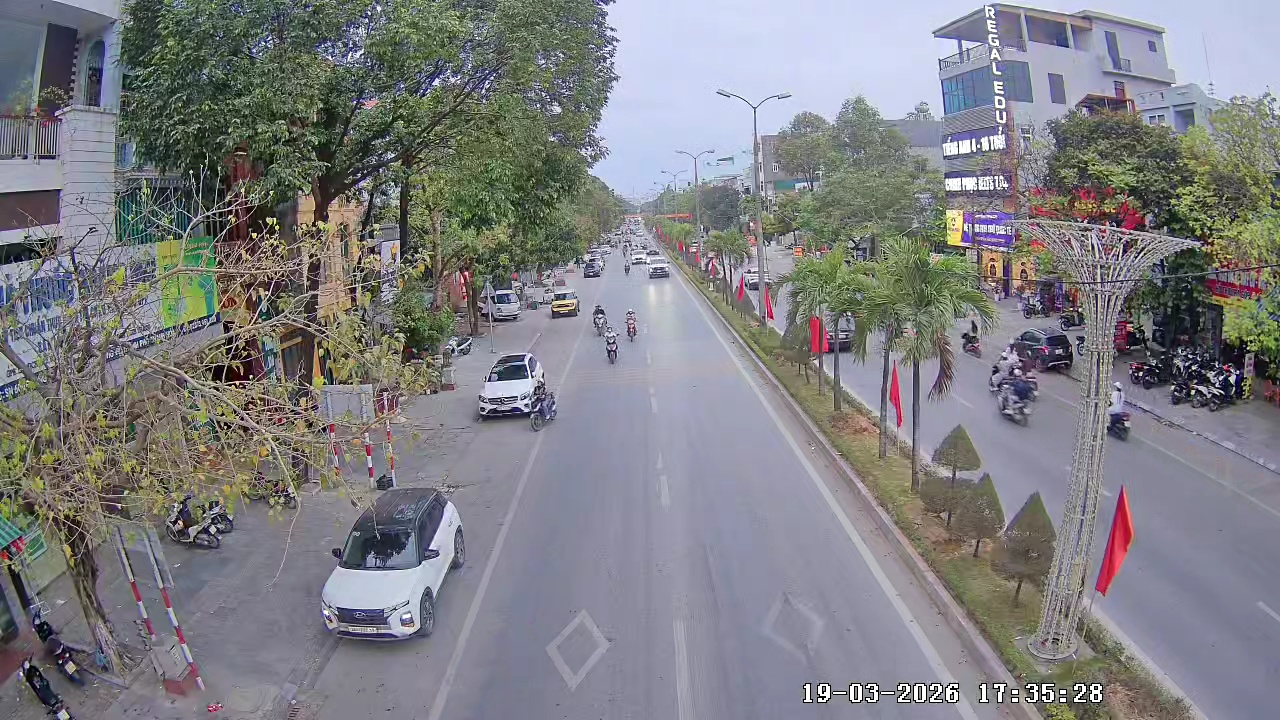car: (320, 485, 469, 643), (475, 351, 541, 420), (549, 289, 581, 318), (647, 256, 670, 279)
motorbike: (997, 368, 1037, 427), (526, 375, 558, 433), (1105, 387, 1134, 442), (603, 322, 621, 365), (589, 300, 607, 334), (624, 305, 640, 342)
